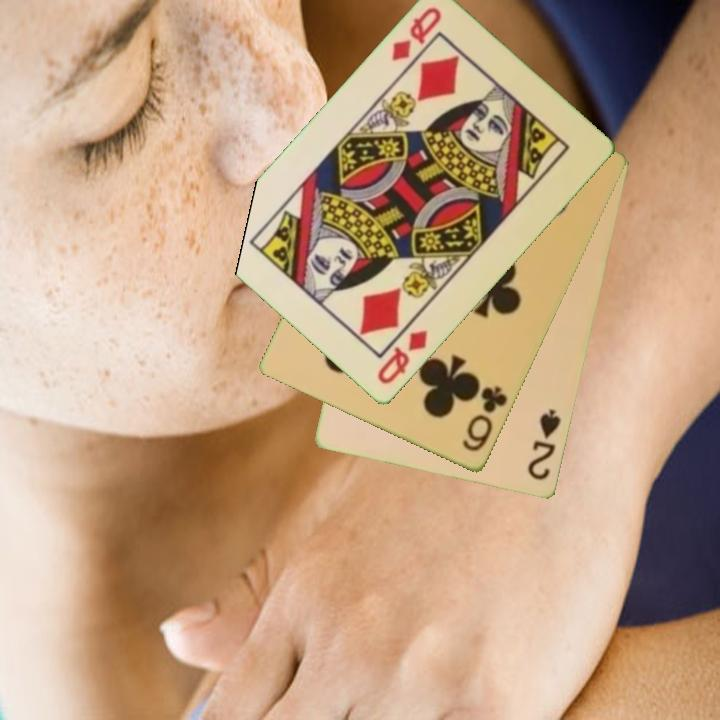2s: (524, 406, 564, 484)
6c: (458, 383, 511, 455)
Qd: (373, 327, 431, 388), (388, 4, 445, 65)
